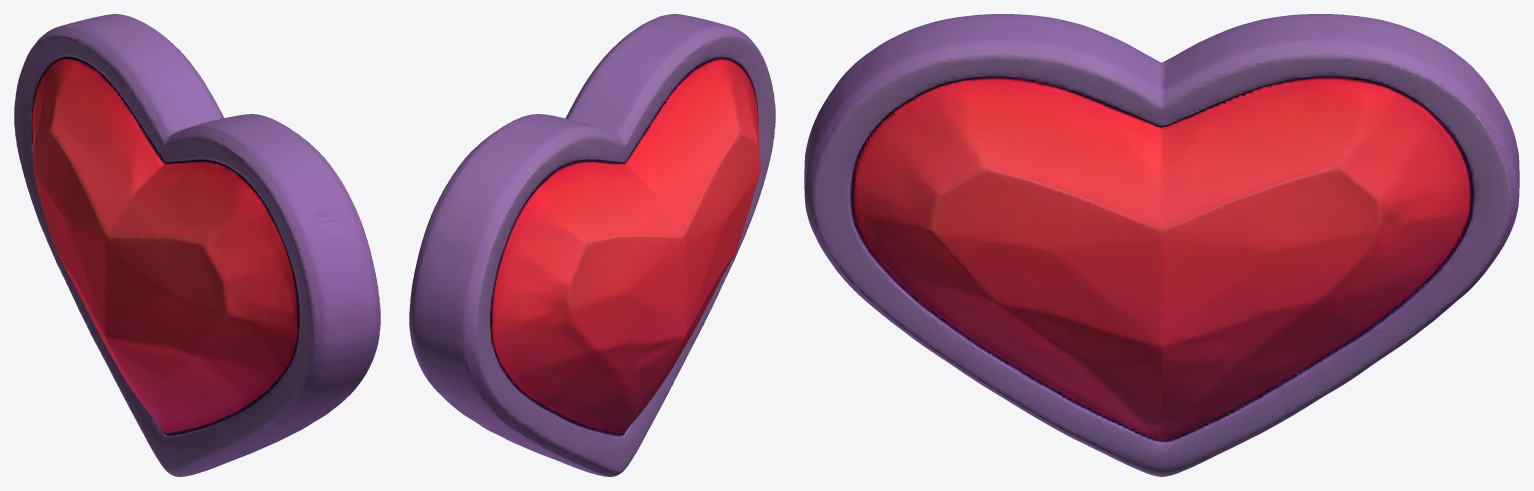
The picture shows the model from 3 angles, left to right: view 1: azimuth 30°, elevation 25°; view 2: azimuth 150°, elevation 25°; view 3: azimuth 270°, elevation 25°; orthographic projection. The views are drawn at different scales.
Parts seen in each view (by area): view 1: textured_mesh.obj; view 2: textured_mesh.obj; view 3: textured_mesh.obj.
Boxes of the visible parts, left/top/right/bottom form: textured_mesh.obj: left=14, top=14, right=380, bottom=476; textured_mesh.obj: left=409, top=14, right=775, bottom=476; textured_mesh.obj: left=804, top=14, right=1519, bottom=476.
Size of the model in its own units: 0.69 by 1.38 by 1.99.
Materials: 1 (1 with a texture image).
